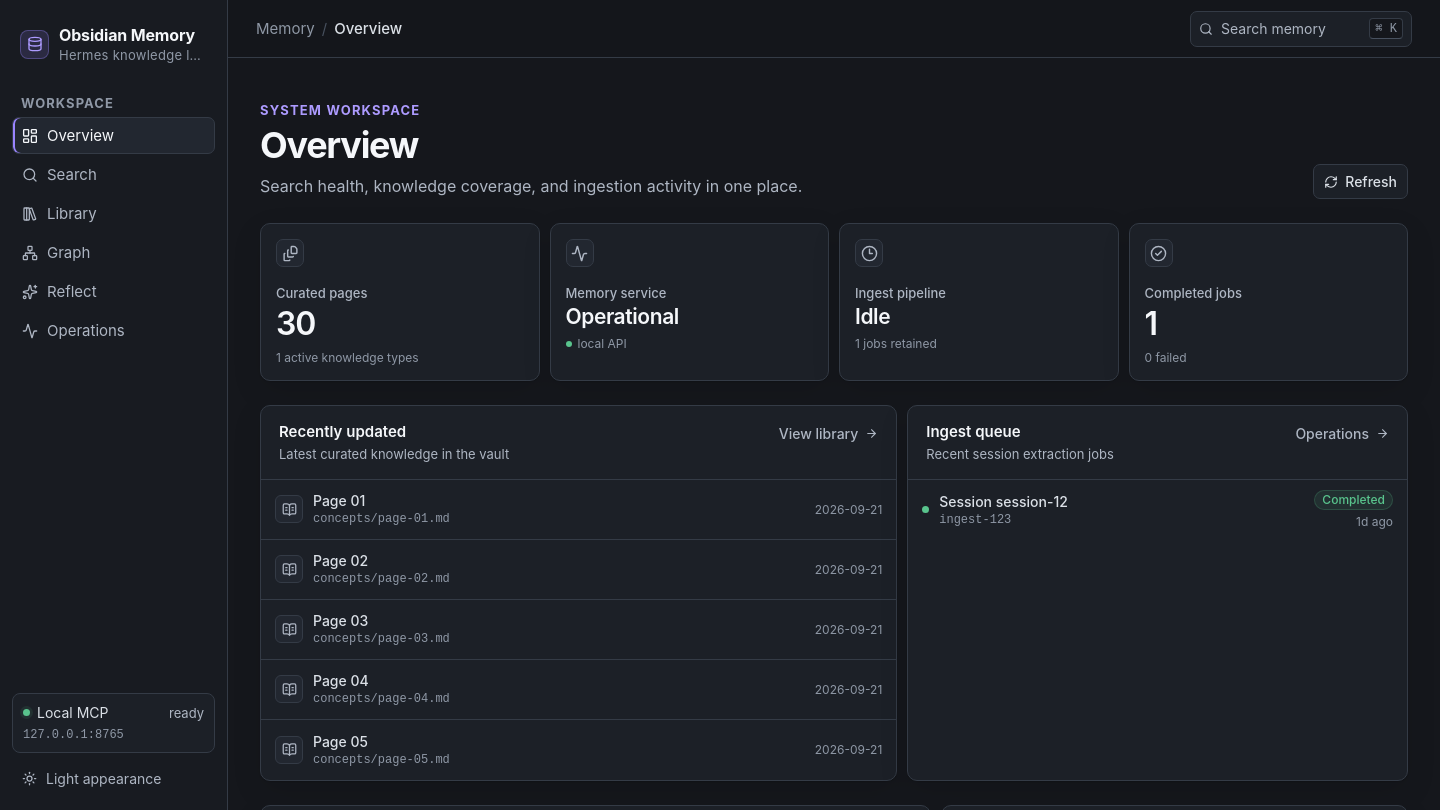
Test: Memory workspace shell › paginates the library and resets pagination when filtering
This screenshot has width=1440, height=810.
Click the button "Library": point(114, 214) top-left (12, 195), bottom-right (215, 232)
(page scrolled)
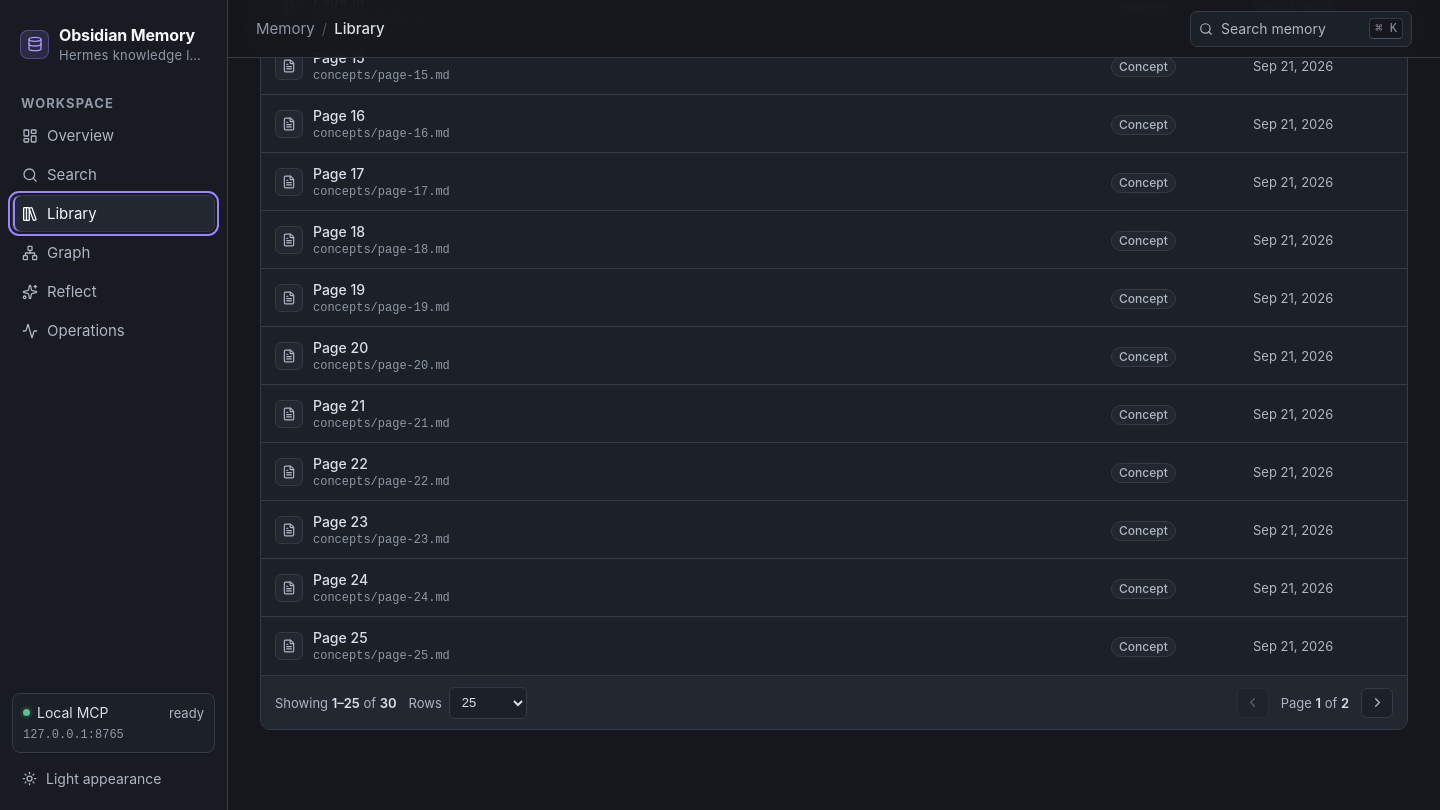
Expected: the text "Page 26" is not shown
Expected: the navigation bar named "Library pagination" shows "Showing 1–25 of 30", top-left (261, 675), bottom-right (1407, 729)
Expected: the element labelled "Page 1 of 2" is shown, top-left (1281, 695), bottom-right (1349, 711)
Click the button named "Next library page": point(1377, 703) top-left (1361, 688), bottom-right (1393, 718)
(page scrolled)
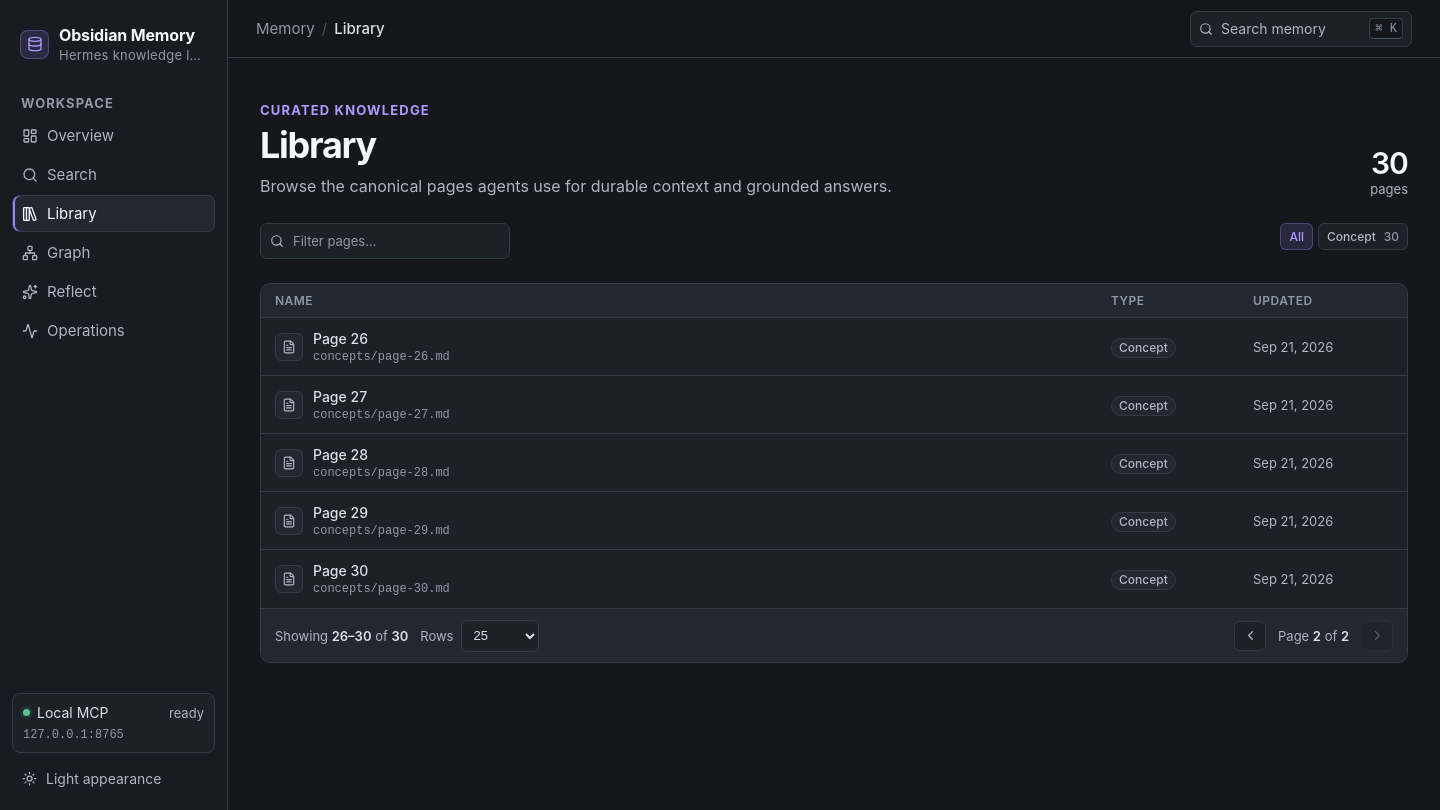
Expected: the text "Page 26" is shown, top-left (313, 330), bottom-right (368, 347)
Expected: the navigation bar named "Library pagination" shows "Showing 26–30 of 30", top-left (261, 608), bottom-right (1407, 662)
Expected: the element labelled "Page 2 of 2" is shown, top-left (1278, 628), bottom-right (1349, 644)
In the field named "Filter library": point(396, 241) top-left (291, 232), bottom-right (500, 250), type "Page 03"
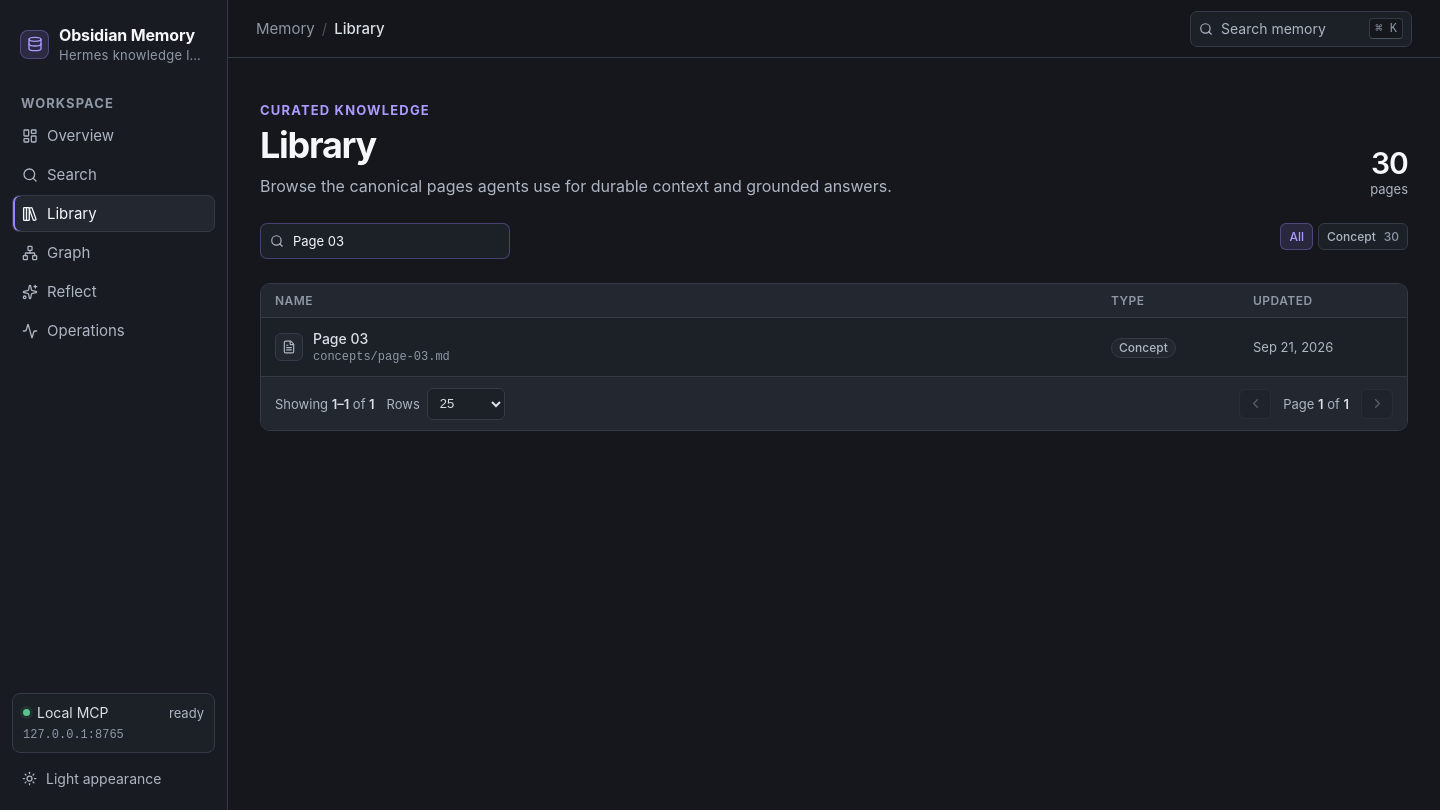
Expected: the text "Page 03" is shown, top-left (313, 330), bottom-right (368, 347)
Expected: the navigation bar named "Library pagination" shows "Showing 1–1 of 1", top-left (261, 376), bottom-right (1407, 430)
Expected: the element labelled "Page 1 of 1" is shown, top-left (1283, 396), bottom-right (1349, 412)
